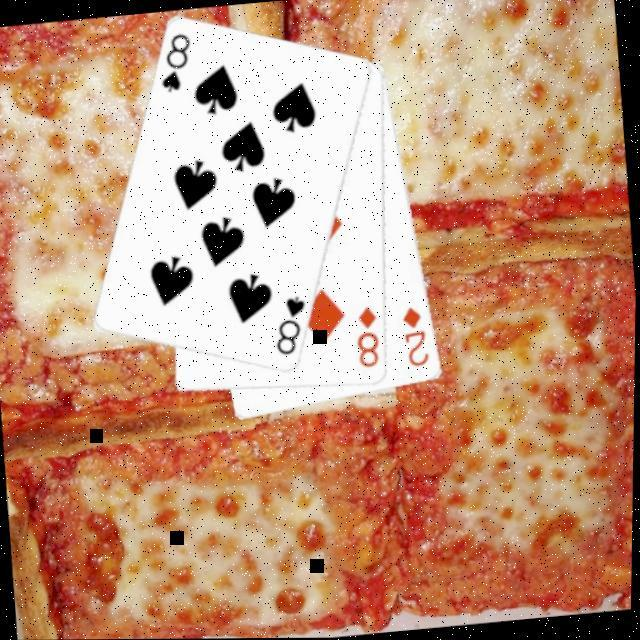2D: (399, 304, 436, 372)
8D: (352, 305, 388, 374)
8S: (270, 294, 316, 362), (156, 32, 200, 98)
